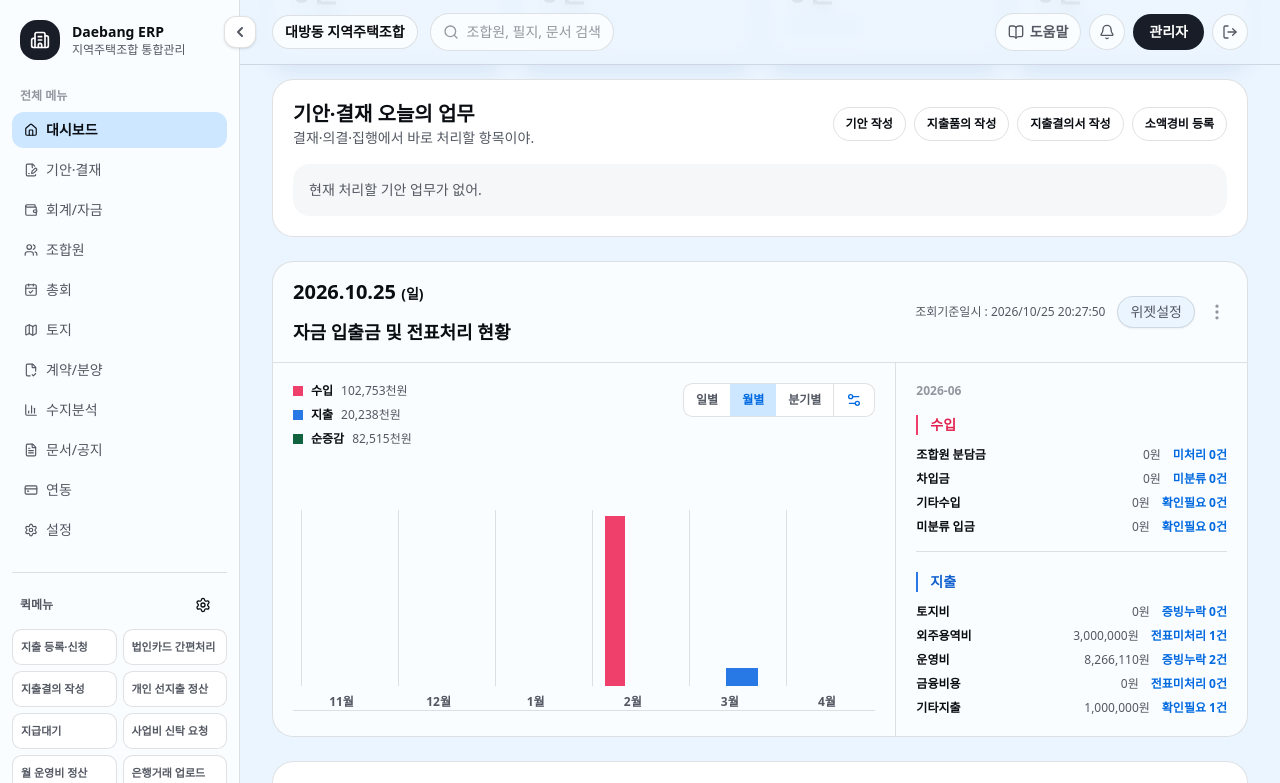
DashboardPage › switches the cash flow chart between daily, monthly, and quarterly views
(page scrolled)
Check: the text "11월" is shown, box [329,693,354,710]
Click the button "일별" at (707, 400), box [684,384,730,416]
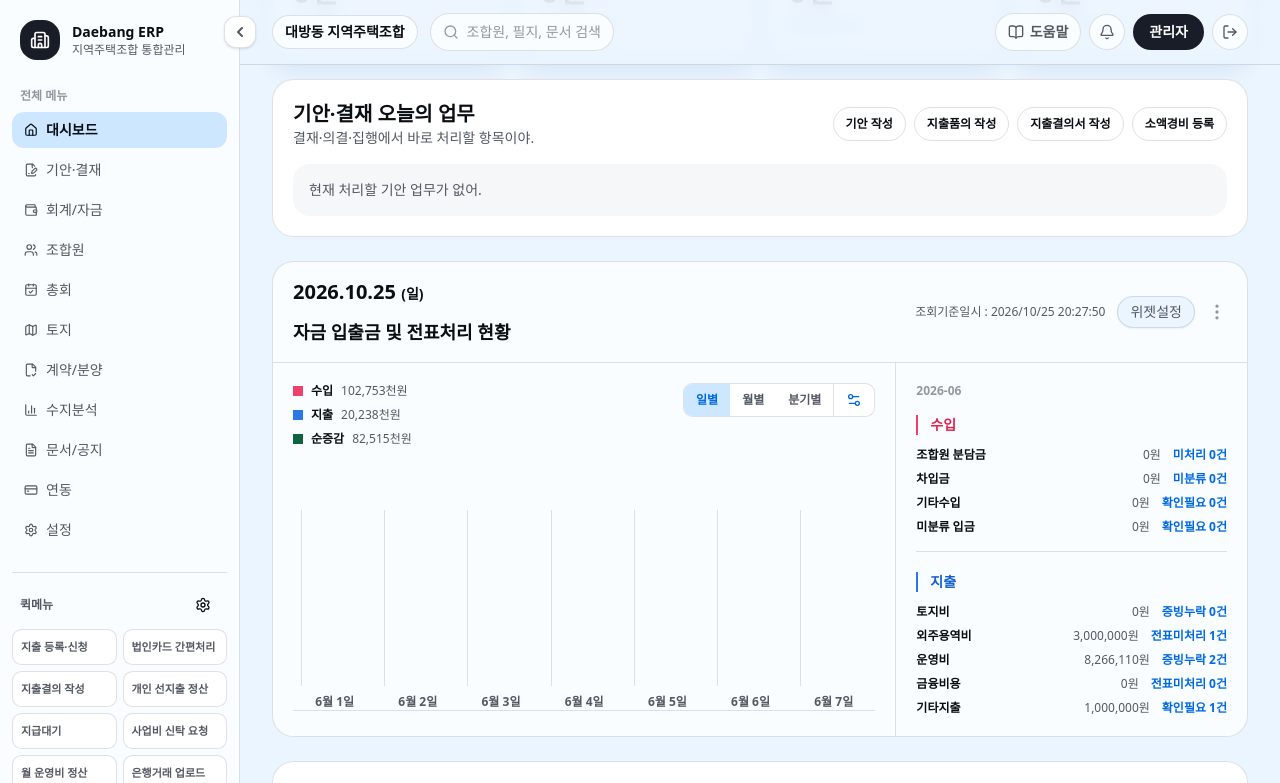
Check: the text "6월 1일" is shown, box [315,693,354,710]
Click the button "분기별" at (805, 400), box [776,384,833,416]
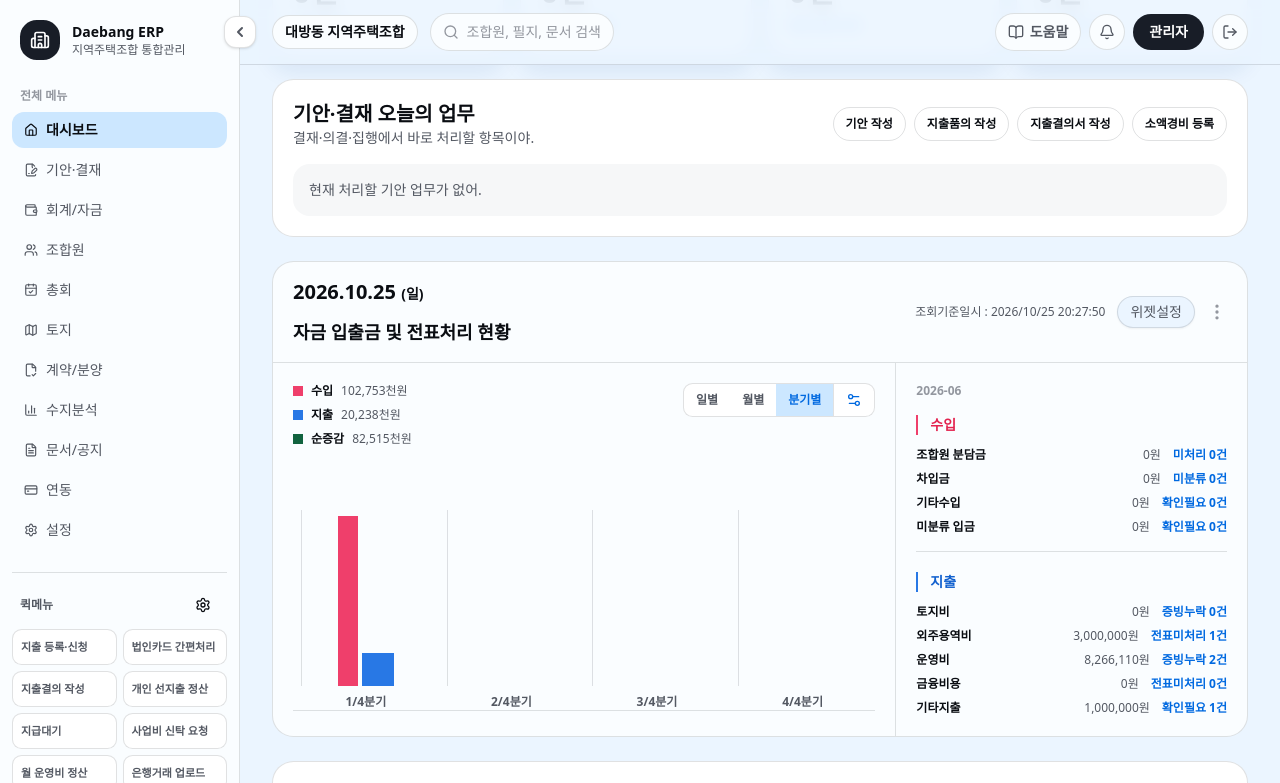
Check: the text "1/4분기" is shown, box [345,693,386,710]
